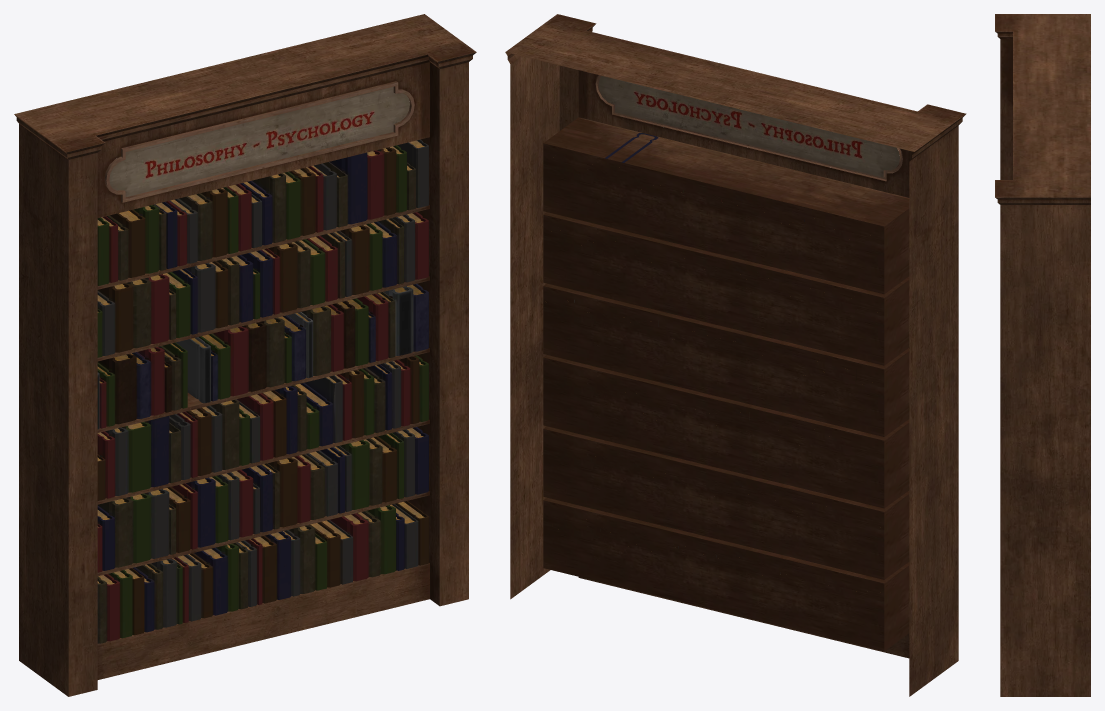
File: shelf.glb
3 views of the same model, side by side, from view 1: azimuth 30°, elevation 25°; view 2: azimuth 150°, elevation 25°; view 3: azimuth 270°, elevation 25° (orthographic). The views are drawn at different scales.
Parts seen in each view (by area): view 1: prop_biblioteca_estanteria_estanteria-madera_0, prop_bibllioteca_libros054_libEstanterias-lomos1_0, prop_biblioteca_libros270_libEstanterias-lomos1_0, prop_biblioteca_libros_hueco003_libEstanterias-lomos2_0, prop_biblioteca_libros268_libEstanterias-lomos1_0, prop_biblioteca_libros267_libEstanterias-lomos1_0, prop_biblioteca_libros269_libEstanterias-lomos1_0, prop_biblioteca_estanteria_cartel1_0, prop_biblioteca_estanteria_estanteria-marco_0, prop_biblioteca_libros269_libEstanterias-hojas1_0, prop_biblioteca_libros267_libEstanterias-hojas1_0, prop_biblioteca_libros268_libEstanterias-hojas1_0 (+3 smaller); view 2: prop_biblioteca_estanteria_estanteria-madera_0, prop_biblioteca_estanteria_cartel1_0, prop_biblioteca_estanteria_estanteria-marco_0; view 3: prop_biblioteca_estanteria_estanteria-madera_0.
Part boxes in pixels (box(x1,y1,x2,y2)): prop_biblioteca_estanteria_estanteria-madera_0: box(14, 14, 476, 696); prop_bibllioteca_libros054_libEstanterias-lomos1_0: box(97, 355, 428, 500); prop_biblioteca_libros270_libEstanterias-lomos1_0: box(97, 139, 428, 285); prop_biblioteca_libros_hueco003_libEstanterias-lomos2_0: box(97, 283, 428, 429); prop_biblioteca_libros268_libEstanterias-lomos1_0: box(97, 427, 428, 572); prop_biblioteca_libros267_libEstanterias-lomos1_0: box(97, 212, 428, 357); prop_biblioteca_libros269_libEstanterias-lomos1_0: box(97, 501, 428, 643); prop_biblioteca_estanteria_cartel1_0: box(109, 86, 409, 196); prop_biblioteca_estanteria_estanteria-marco_0: box(104, 81, 414, 202); prop_biblioteca_libros269_libEstanterias-hojas1_0: box(97, 502, 424, 584); prop_biblioteca_libros267_libEstanterias-hojas1_0: box(97, 213, 423, 312); prop_biblioteca_libros268_libEstanterias-hojas1_0: box(97, 428, 423, 527); prop_biblioteca_estanteria_estanteria-madera_0: box(505, 14, 966, 696); prop_biblioteca_estanteria_cartel1_0: box(598, 76, 899, 177); prop_biblioteca_estanteria_estanteria-marco_0: box(595, 75, 902, 181); prop_biblioteca_estanteria_estanteria-madera_0: box(995, 14, 1090, 696).
Size of the model in its own units: 2.4 by 3.06 by 0.5301.
Materials: 7 (7 with a texture image).
